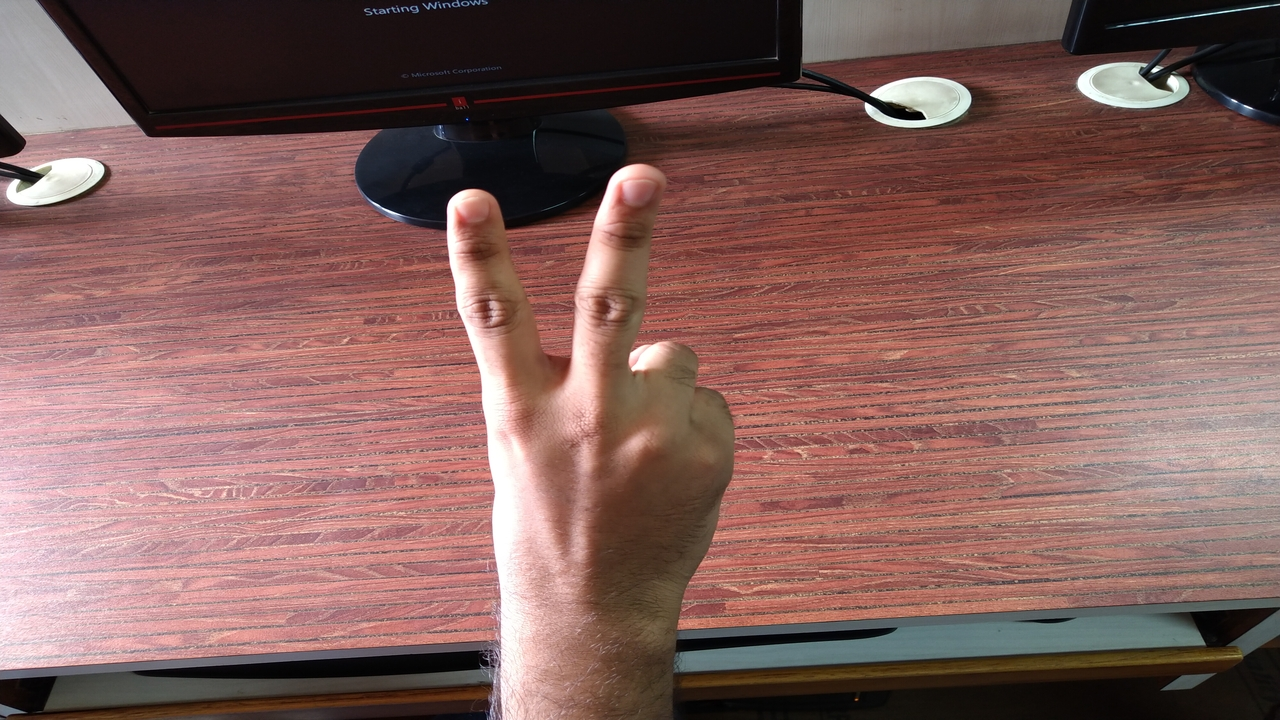fingertip: (600, 154, 672, 218), (442, 180, 506, 244)
